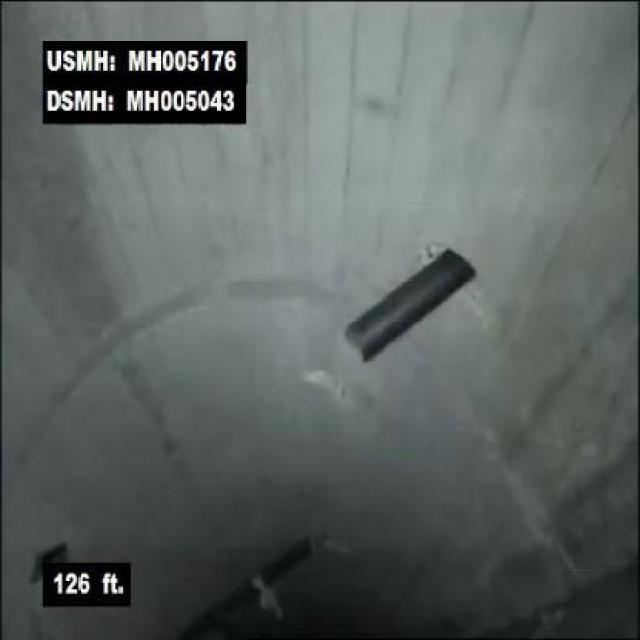Utility intrusion: (337, 220, 489, 357)
